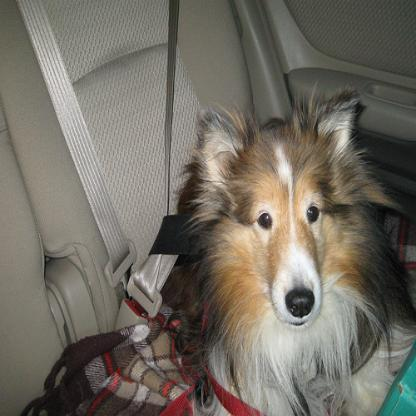Shetland_sheepdog: (174, 77, 411, 414)
